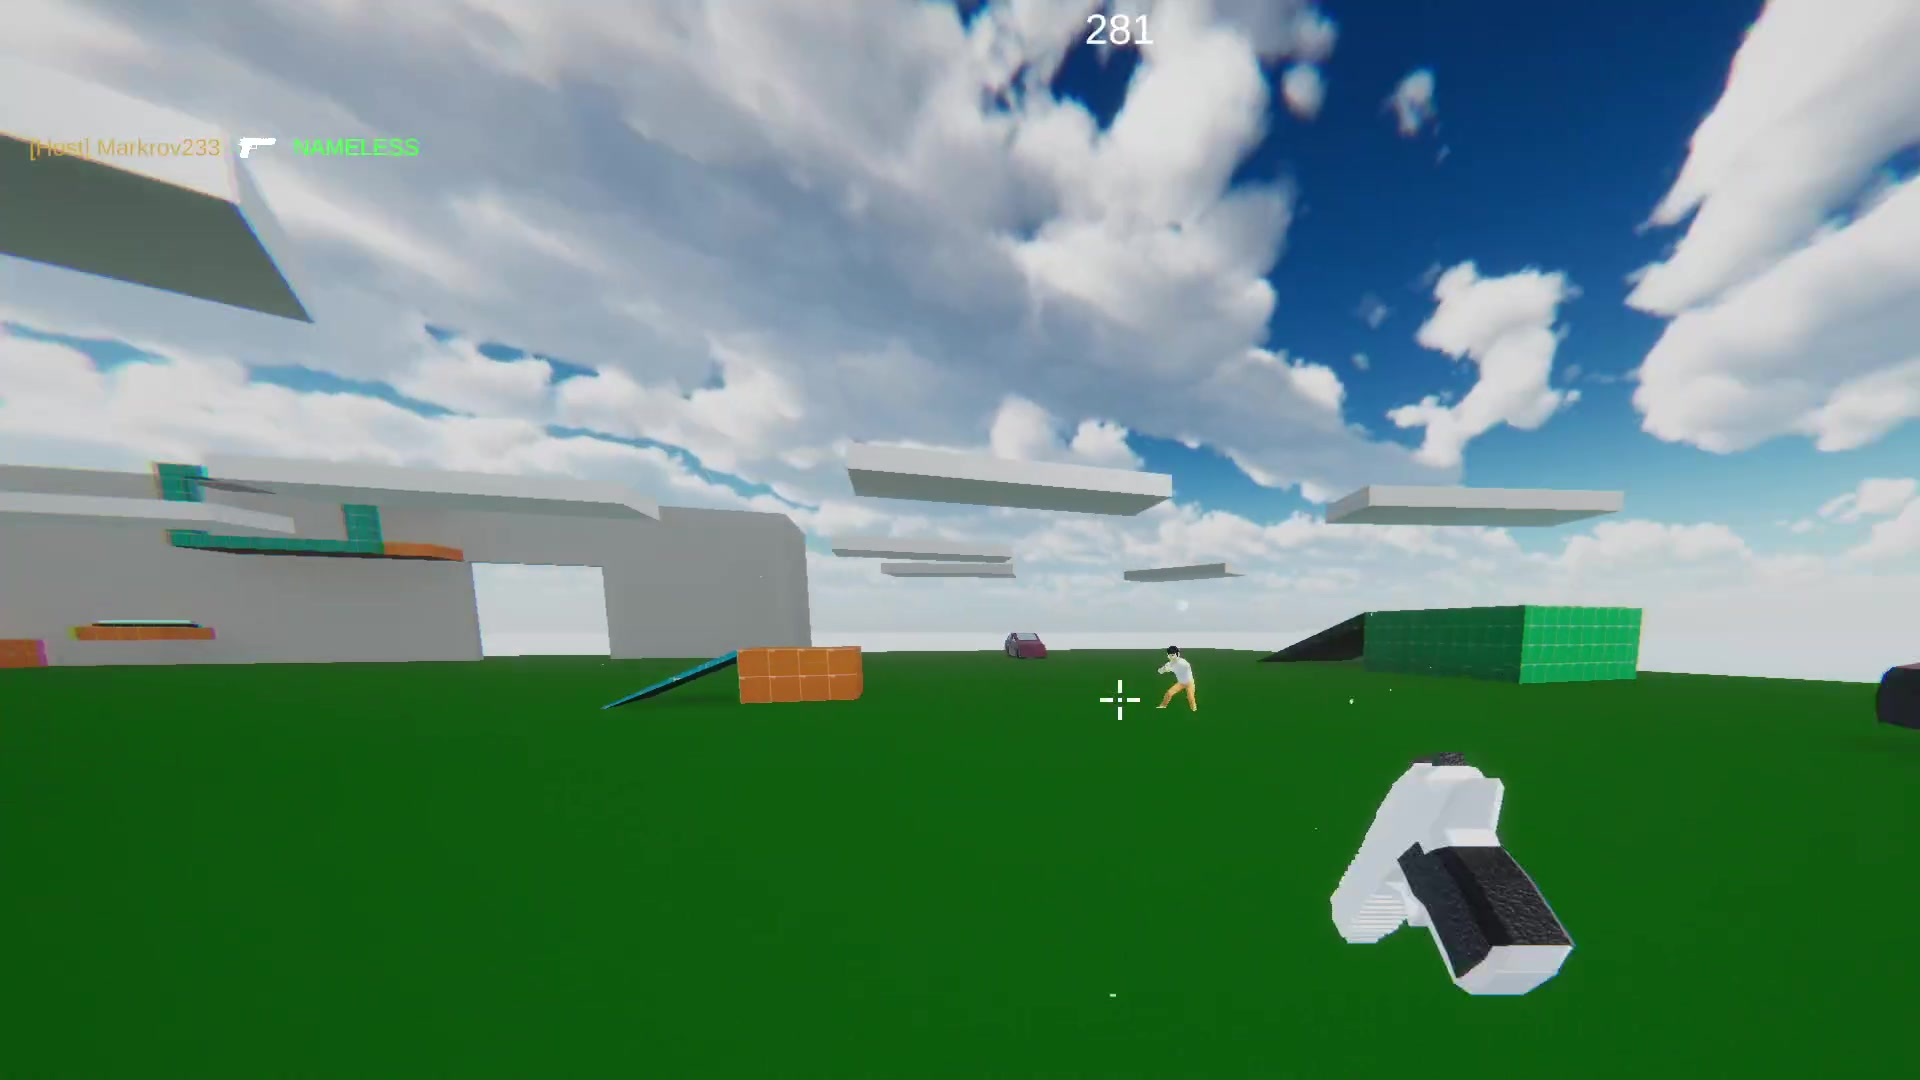human: (1163, 642, 1195, 712)
